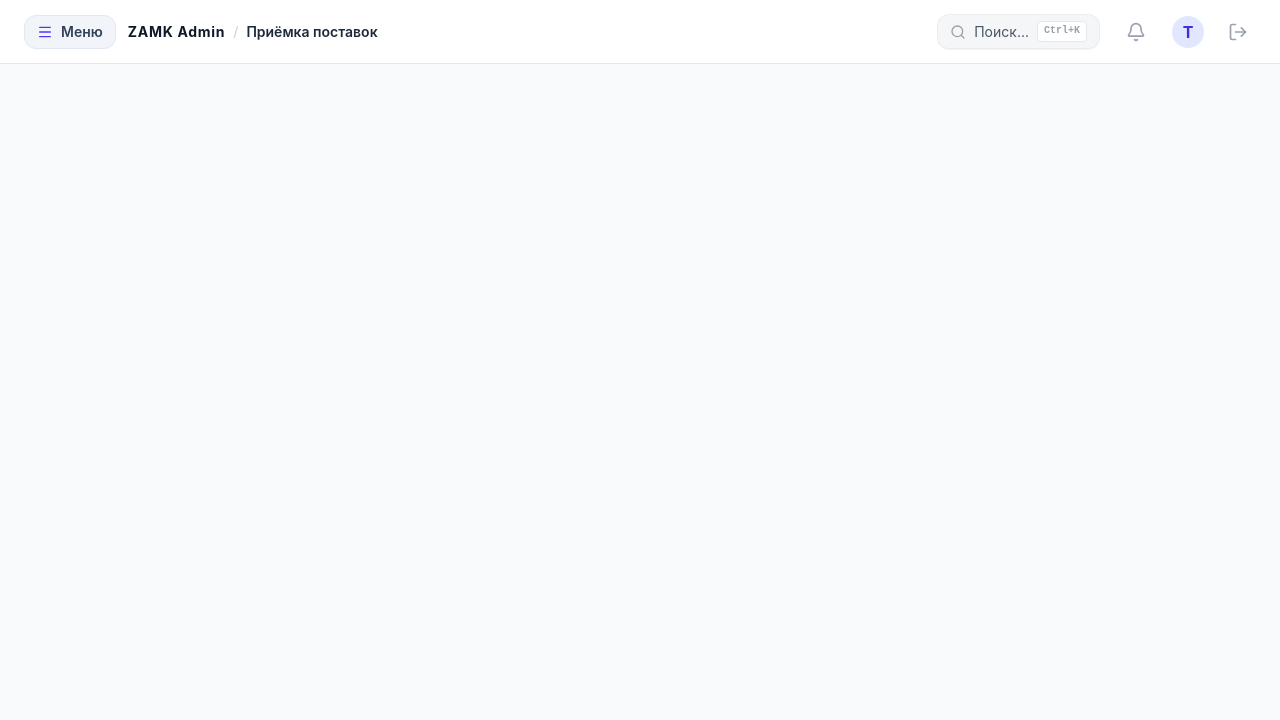
Scenario: EMP.1C3C2R.2B — Admin Navigation and Route Guards Alignment › E: supply receiving route and navigation visibility require inventory.receipt
Step 1. Click the button with test id "admin-nav-trigger" → [70, 32], box left=24, top=14, right=116, bottom=48
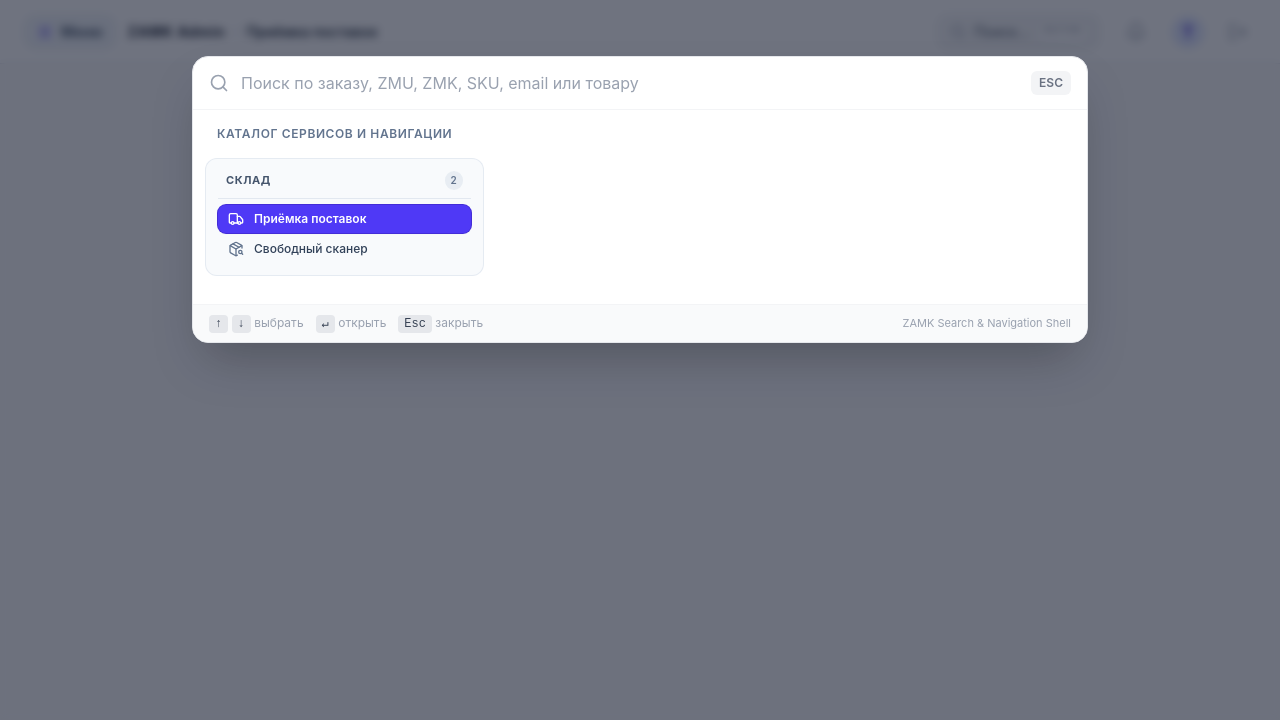
Check: the text "Приёмка поставок" is shown, box left=254, top=211, right=366, bottom=227
